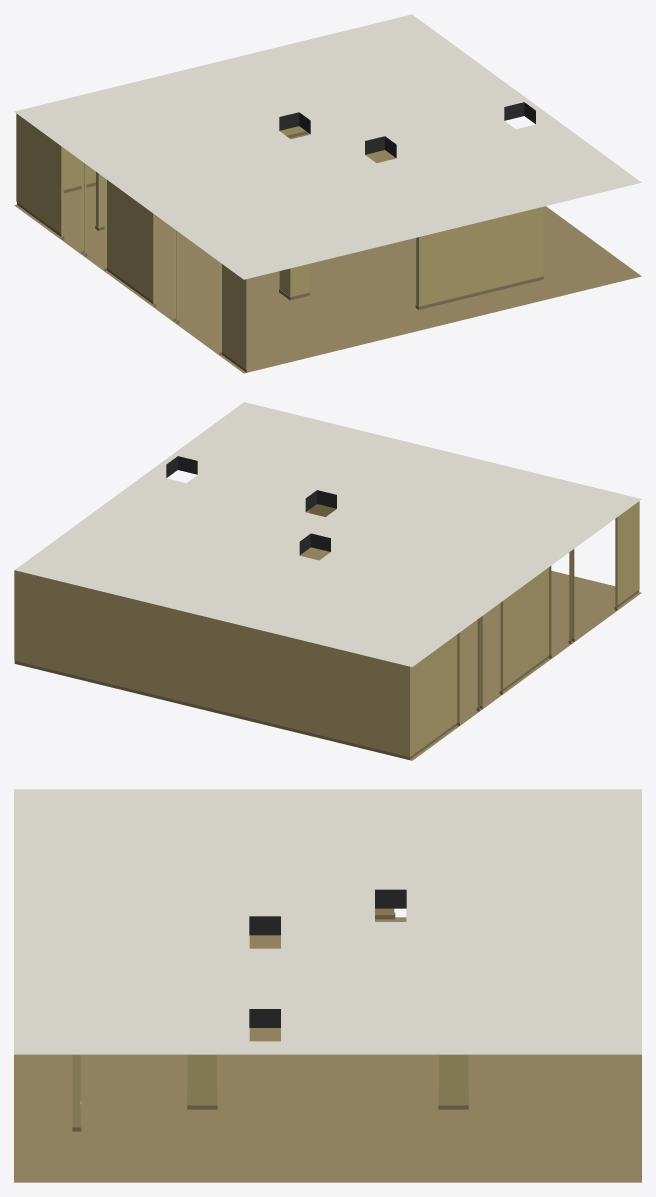
File: chunk_4_0.glb
The picture shows the model from 3 angles, top to bottom: view 1: azimuth 30°, elevation 25°; view 2: azimuth 150°, elevation 25°; view 3: azimuth 270°, elevation 25°; orthographic projection. The views are drawn at different scales.
Visible parts, largest first — view 1: chunk_4_0; view 2: chunk_4_0; view 3: chunk_4_0.
Part boxes in pixels (x1,y1,x2,y2): chunk_4_0: [14, 14, 641, 373]; chunk_4_0: [14, 402, 641, 760]; chunk_4_0: [14, 789, 641, 1182].
Bounding box in the file's own units: 12.03 × 3.1 × 12.
